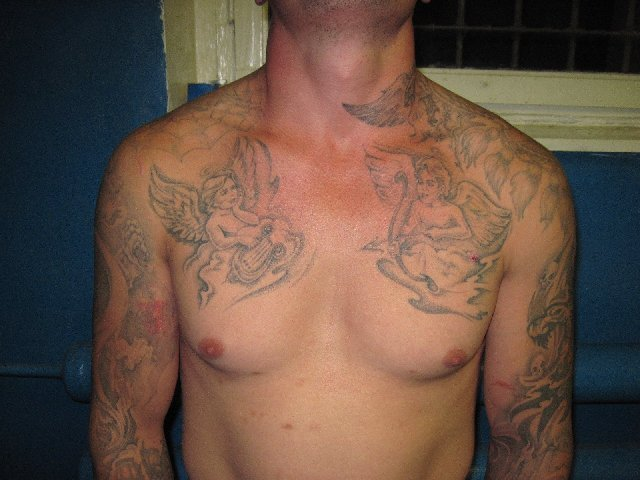tatu1_angel: (342, 139, 502, 321), (143, 140, 312, 296)
